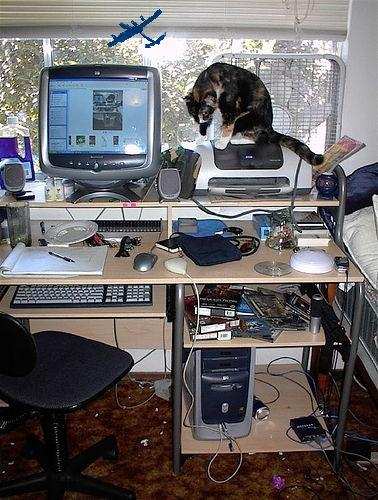tampered: (108, 10, 166, 48)
